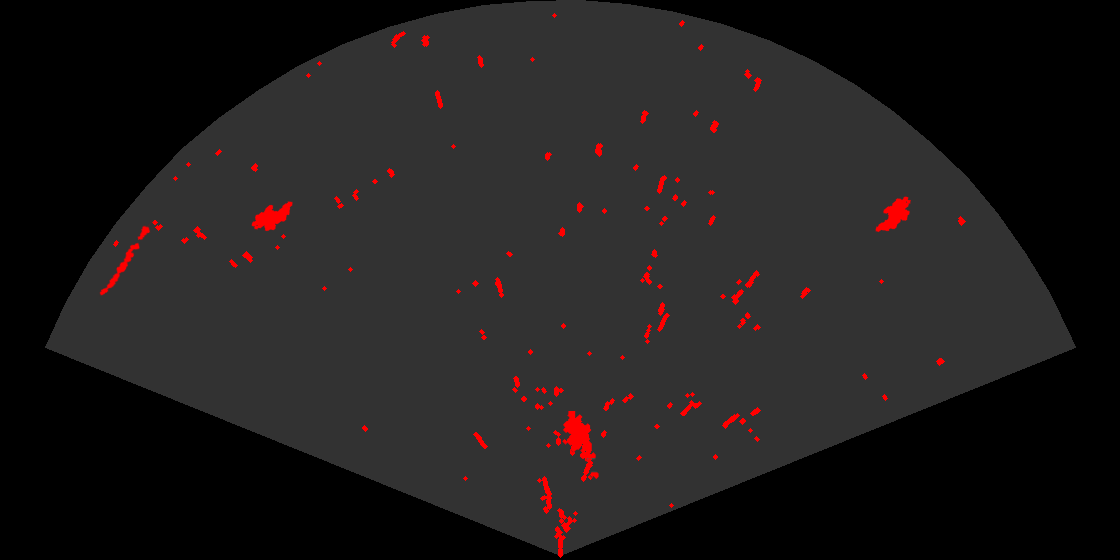AUV: (874, 195, 912, 234), (250, 200, 294, 233)
chain: (98, 220, 154, 297)
frogman: (561, 411, 600, 479)
